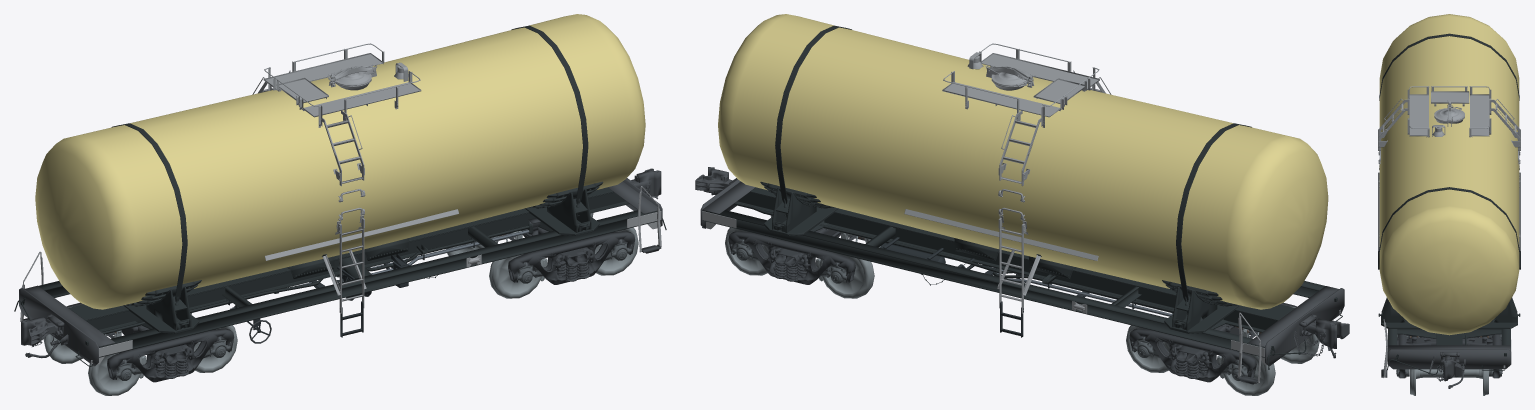
The model's file is tank_15_5103_07.glb.
3 views of the same model, side by side, from view 1: azimuth 30°, elevation 25°; view 2: azimuth 150°, elevation 25°; view 3: azimuth 270°, elevation 25° (orthographic). The views are drawn at different scales.
Visible parts, largest first — view 1: tk_shell, tk_side_sill, tk_center_sill, tk_manhole, tk_coupler_A, tk_side_frame_A, tk_side_frame_B, tk_saddle, tk_outer_ladder, tk_wheelset_A, tk_band, tk_wheelset_B (+10 smaller); view 2: tk_shell, tk_side_sill, tk_center_sill, tk_manhole, tk_coupler_A, tk_saddle, tk_side_frame_A, tk_side_frame_B, tk_outer_ladder, tk_band, tk_wheelset_A, tk_wheelset_B (+10 smaller); view 3: tk_shell, tk_coupler_B, tk_manhole, tk_platform, tk_body_bolster, tk_band, tk_outer_ladder, tk_wheelset_B, tk_saddle, tk_side_frame_B, tk_bogie_bolster_B, tk_center_sill (+4 smaller).
Boxes of the visible parts, bbox=[...] form: tk_shell: bbox=[35, 14, 645, 309]; tk_side_sill: bbox=[38, 210, 661, 357]; tk_center_sill: bbox=[59, 187, 629, 343]; tk_manhole: bbox=[263, 43, 421, 117]; tk_coupler_A: bbox=[19, 285, 115, 366]; tk_side_frame_A: bbox=[23, 302, 271, 382]; tk_side_frame_B: bbox=[499, 231, 661, 284]; tk_saddle: bbox=[126, 181, 603, 330]; tk_outer_ladder: bbox=[252, 70, 458, 313]; tk_wheelset_A: bbox=[43, 306, 237, 395]; tk_band: bbox=[111, 25, 588, 301]; tk_wheelset_B: bbox=[446, 213, 638, 298]; tk_shell: bbox=[718, 14, 1328, 309]; tk_side_sill: bbox=[702, 210, 1324, 357]; tk_center_sill: bbox=[733, 187, 1294, 332]; tk_manhole: bbox=[942, 43, 1099, 117]; tk_coupler_A: bbox=[1248, 286, 1349, 366]; tk_saddle: bbox=[760, 181, 1237, 330]; tk_side_frame_A: bbox=[1129, 302, 1296, 384]; tk_side_frame_B: bbox=[728, 231, 864, 284]; tk_outer_ladder: bbox=[904, 70, 1111, 313]; tk_band: bbox=[775, 25, 1251, 301]; tk_wheelset_A: bbox=[1126, 306, 1319, 395]; tk_wheelset_B: bbox=[725, 215, 880, 298]; tk_shell: bbox=[1379, 14, 1519, 335]; tk_coupler_B: bbox=[1387, 345, 1511, 388]; tk_manhole: bbox=[1409, 91, 1489, 137]; tk_platform: bbox=[1378, 86, 1520, 348]; tk_body_bolster: bbox=[1378, 160, 1520, 338]; tk_band: bbox=[1379, 33, 1519, 254]; tk_outer_ladder: bbox=[1378, 98, 1520, 251]; tk_wheelset_B: bbox=[1410, 336, 1488, 395]; tk_saddle: bbox=[1381, 297, 1517, 322]; tk_side_frame_B: bbox=[1381, 334, 1501, 378]; tk_bogie_bolster_B: bbox=[1397, 336, 1501, 345]; tk_center_sill: bbox=[1436, 333, 1466, 365].
Size of the model in its own units: 12.41 by 4.62 by 3.06.
